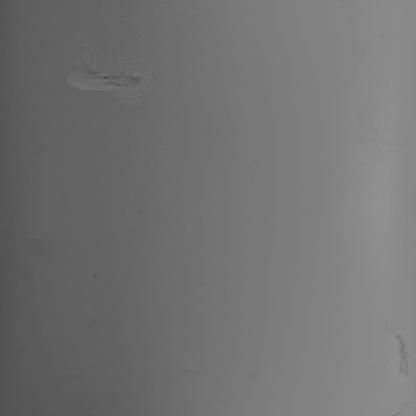sunshang: (66, 62, 153, 102), (394, 329, 414, 386)
